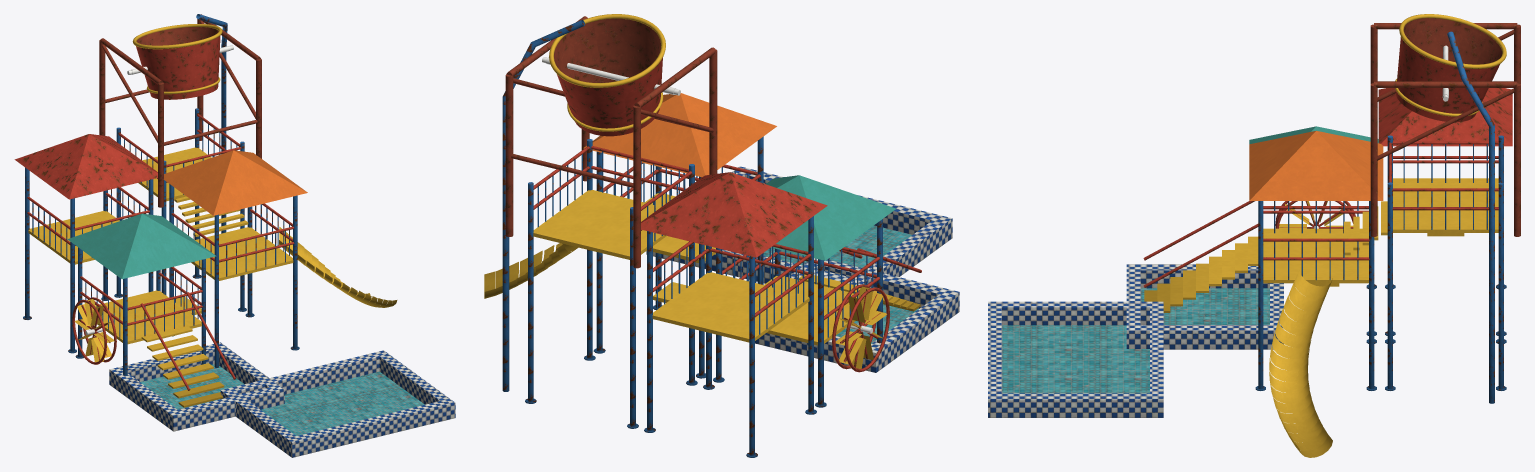
Rendered from sala_area_bimbi.glb.
3 renders of one model, left to right at view 1: azimuth 30°, elevation 25°; view 2: azimuth 150°, elevation 25°; view 3: azimuth 270°, elevation 25°, orthographic. The views are drawn at different scales.
Parts seen in each view (by area): view 1: sala_struttura_gioco, sala_vasca_bimbi_1, sala_vasca_bimbi_2, sala_secchio_gigante, sala_ruota_pale; view 2: sala_struttura_gioco, sala_secchio_gigante, sala_vasca_bimbi_1, sala_vasca_bimbi_2, sala_ruota_pale; view 3: sala_struttura_gioco, sala_vasca_bimbi_1, sala_vasca_bimbi_2, sala_secchio_gigante, sala_ruota_pale.
Boxes of the visible parts, x1,y1,x2,y2 form: sala_struttura_gioco: (14, 14, 397, 407); sala_vasca_bimbi_1: (220, 350, 455, 457); sala_vasca_bimbi_2: (109, 342, 284, 431); sala_secchio_gigante: (131, 24, 230, 99); sala_ruota_pale: (72, 297, 116, 364); sala_struttura_gioco: (484, 16, 921, 457); sala_secchio_gigante: (546, 14, 675, 136); sala_vasca_bimbi_1: (646, 166, 952, 287); sala_vasca_bimbi_2: (755, 258, 959, 372); sala_ruota_pale: (832, 284, 889, 372); sala_struttura_gioco: (1143, 23, 1520, 457); sala_vasca_bimbi_1: (988, 301, 1163, 417); sala_vasca_bimbi_2: (1126, 264, 1283, 349); sala_secchio_gigante: (1395, 14, 1506, 122); sala_ruota_pale: (1275, 201, 1355, 228).
Size of what is drawn, in the model's own units: 9.31 by 8.31 by 11.53.
9 materials, 9 textured.
